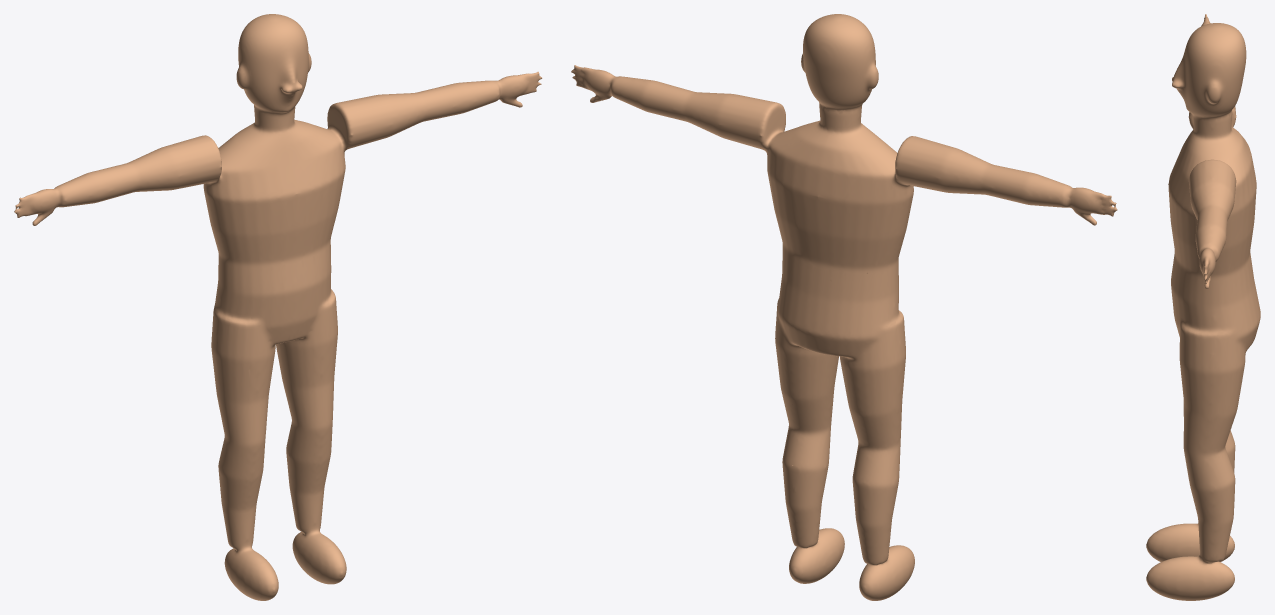
The model's file is NPC2_BaseMale_TPose.fbx.
The picture shows the model from 3 angles, left to right: view 1: azimuth 30°, elevation 25°; view 2: azimuth 150°, elevation 25°; view 3: azimuth 270°, elevation 25°; orthographic projection. The views are drawn at different scales.
Visible parts, largest first — view 1: NPC2_BaseMale_TPose_Skin; view 2: NPC2_BaseMale_TPose_Skin; view 3: NPC2_BaseMale_TPose_Skin.
Part boxes in pixels (bbox=[...]): NPC2_BaseMale_TPose_Skin: bbox=[14, 14, 542, 600]; NPC2_BaseMale_TPose_Skin: bbox=[571, 14, 1117, 600]; NPC2_BaseMale_TPose_Skin: bbox=[1146, 14, 1260, 600].
Size of the model in its own units: 1.8 by 1.83 by 0.341.
